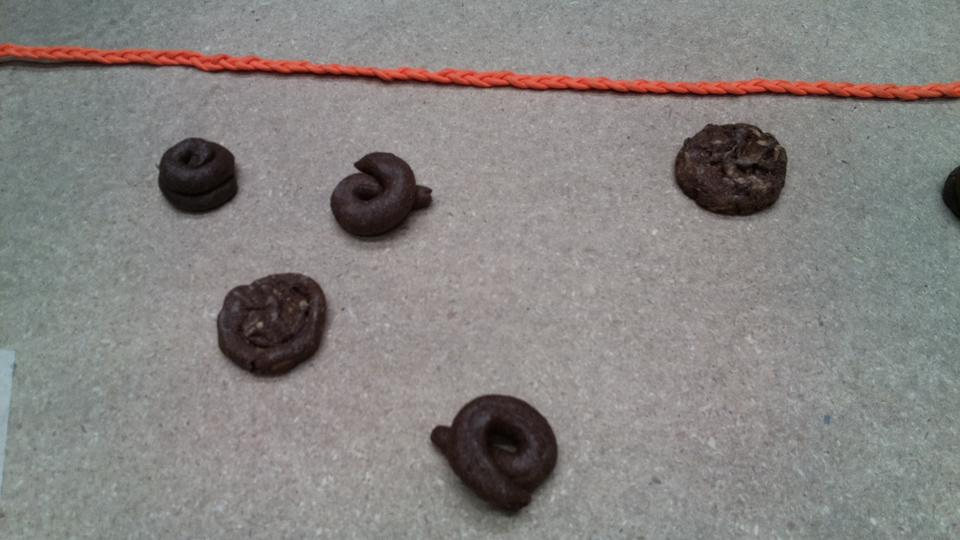poop: (427, 384, 563, 518), (663, 118, 796, 230), (210, 269, 342, 378), (327, 146, 438, 249), (153, 134, 244, 216)
rope: (1, 32, 826, 109), (676, 40, 960, 112)
